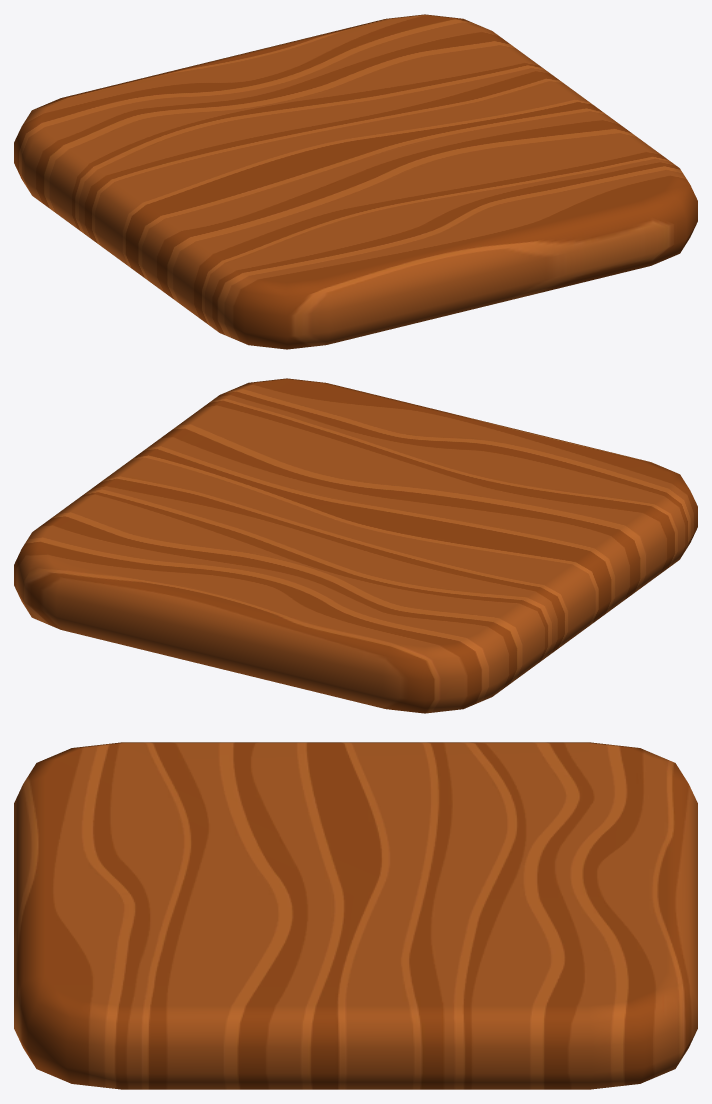
File: Platform.fbx
3 renders of one model, top to bottom at view 1: azimuth 30°, elevation 25°; view 2: azimuth 150°, elevation 25°; view 3: azimuth 270°, elevation 25°, orthographic. The views are drawn at different scales.
Visible parts, largest first — view 1: Platform; view 2: Platform; view 3: Platform.
Part boxes in pixels (bbox=[...]): Platform: bbox=[14, 14, 697, 349]; Platform: bbox=[14, 378, 697, 713]; Platform: bbox=[14, 742, 697, 1089].
Bounding box in the file's own units: 4.14 × 0.5512 × 4.14.
Materials: 1 (1 with a texture image).
